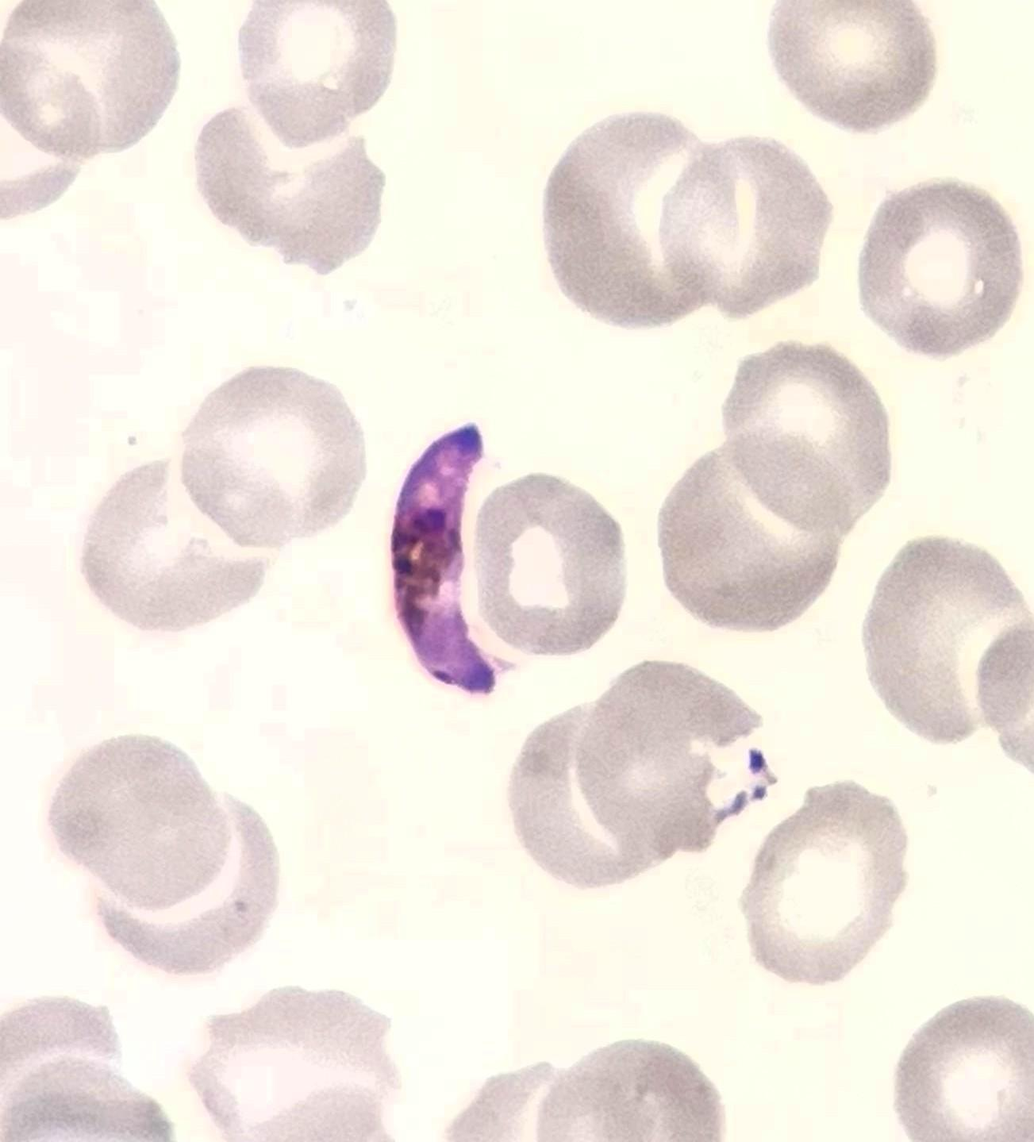Infected: (577, 665, 774, 861), (383, 421, 514, 701)
Uninfected: (544, 113, 734, 329), (657, 423, 850, 631), (77, 457, 281, 633), (863, 534, 1034, 739), (177, 361, 361, 545), (738, 781, 907, 981), (718, 342, 892, 535), (192, 102, 382, 278), (185, 981, 392, 1142), (91, 799, 281, 974), (657, 133, 834, 320), (502, 695, 671, 889), (46, 731, 228, 909), (466, 473, 630, 660), (857, 177, 1023, 354), (0, 2, 179, 157), (236, 0, 398, 144), (766, 0, 939, 132), (891, 994, 1034, 1142)
